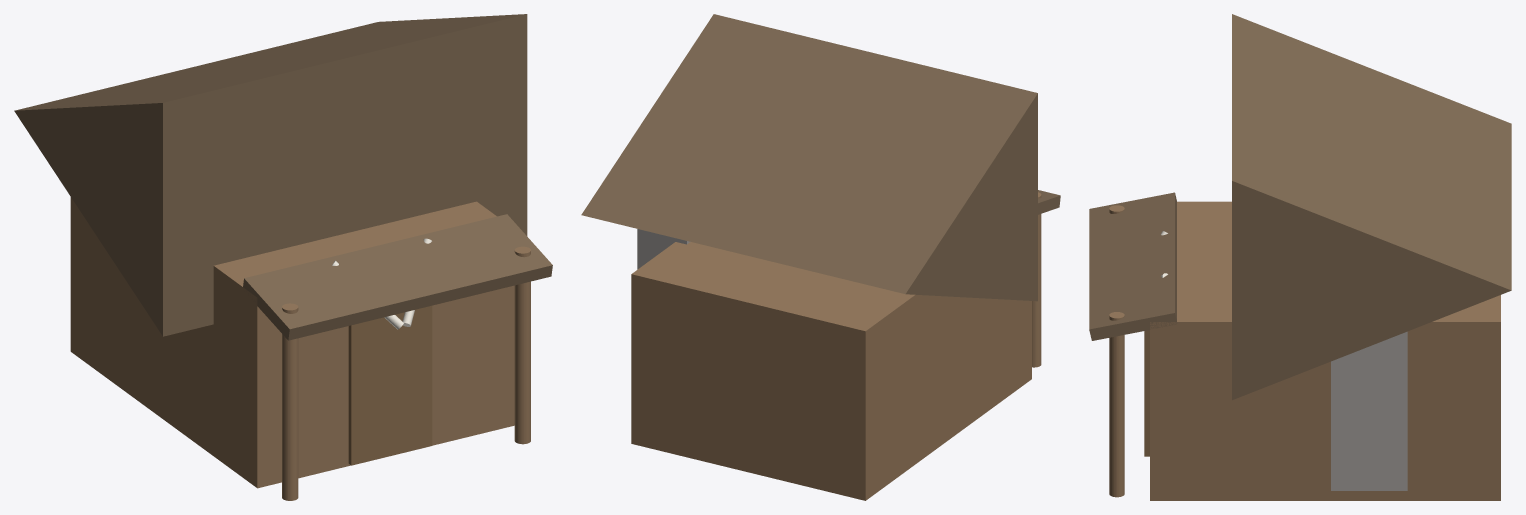
Rendered from hunting_lodge.glb.
3 renders of one model, left to right at view 1: azimuth 30°, elevation 25°; view 2: azimuth 150°, elevation 25°; view 3: azimuth 270°, elevation 25°, orthographic. The views are drawn at different scales.
Parts seen in each view (by area): view 1: Cylinder, Cube, Cube.002, Cube.003, Cylinder.001, Cylinder.002; view 2: Cylinder, Cube, Cylinder.001, Cube.001; view 3: Cylinder, Cube, Cube.002, Cube.001, Cylinder.002, Cube.003.
Part boxes in pixels (x1,y1,x2,y2): Cylinder: (14,14,527,336); Cube: (70,197,514,488); Cube.002: (243,214,552,340); Cube.003: (348,305,432,465); Cylinder.001: (282,303,298,500); Cylinder.002: (514,246,530,444); Cylinder: (581,14,1037,301); Cube: (631,242,1031,500); Cylinder.001: (1032,192,1041,367); Cube.001: (637,229,690,269); Cylinder: (1232,14,1511,400); Cube: (1150,201,1500,500); Cube.002: (1089,192,1177,340); Cube.001: (1331,331,1407,490); Cylinder.002: (1109,312,1124,497); Cube.003: (1144,330,1149,456).
Size of the model in its own units: 3.6 by 3.45 by 3.85.
